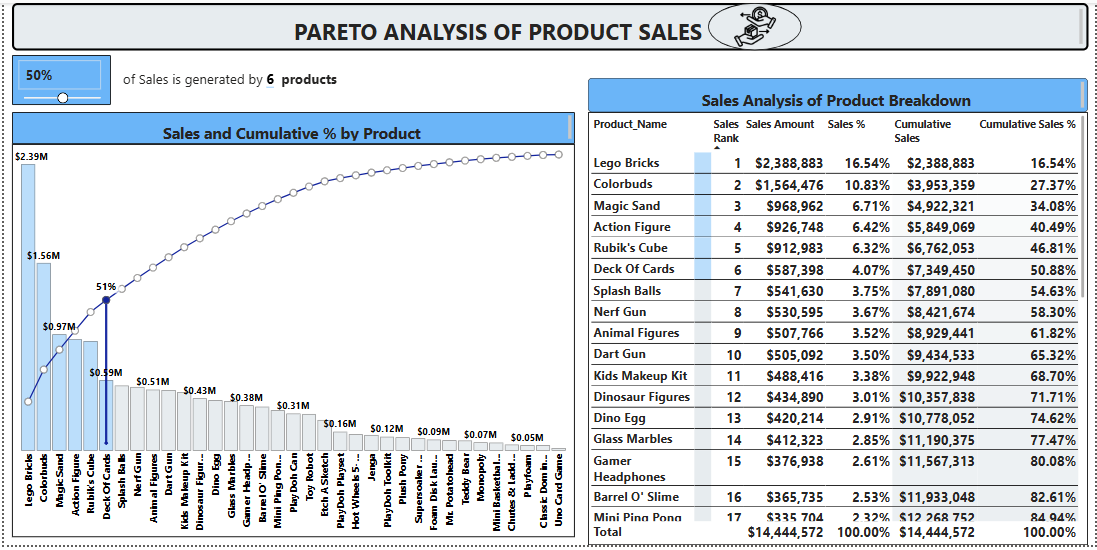

What the dashboard file says about the page in this screenshot:
{"tool":"powerbi","page":{"name":"Page 1","canvas":[2619,1300],"ordinal":0},"visuals":[{"type":"pivotTable","title":"TABLE","fields":{"Values":["sales._Blank","sales.Product Rank by Sales","sales.Sales Amount","sales.Sales %","sales.Cumulative Sales","sales.Cumulative %"],"Rows":["products.Product_Name"]},"box":[1400.7,261.4,1199.3,1038.6],"z":0},{"type":"lineClusteredColumnComboChart","title":"Sales and Cumulative % by Product","fields":{"Category":["products.Product_Name"],"Y":["sales.Sales Amount"],"Y2":["sales.Cumulative Sales %","sales.Cutoff Sales %"]},"box":[19.2,338.2,1350.4,942.6],"z":1000},{"type":"slicer","fields":{"Values":["Parameter2.Parameter2"]},"box":[19.2,124.7,237.5,119.9],"z":2000},{"type":"textbox","box":[280.6,153.5,618.8,67.2],"z":3000},{"type":"textbox","box":[1400.7,179.9,1199.3,81.5],"z":4000},{"type":"textbox","box":[18.5,0,2581.5,113.6],"z":5000},{"type":"shape","box":[1688.4,0,224.6,113.6],"z":5500},{"type":"textbox","box":[18.5,261.6,1350.2,76.6],"z":6000},{"type":"image","box":[1706.9,0,187.6,113.6],"z":8000}]}

Visuals, with their boxes in screenshot pixels (x1, y1, x2, y2), scaled from the page's 2619x1300 canvas onto the 1097x550 screenshot:
"TABLE" pivotTable: crop(587, 111, 1089, 549)
"Sales and Cumulative % by Product" lineClusteredColumnComboChart: crop(8, 143, 574, 542)
slicer - Parameter2.Parameter2: crop(8, 53, 108, 103)
textbox: crop(118, 65, 377, 93)
textbox: crop(587, 76, 1089, 111)
textbox: crop(8, 0, 1089, 48)
shape: crop(707, 0, 801, 48)
textbox: crop(8, 111, 573, 143)
image: crop(715, 0, 794, 48)
